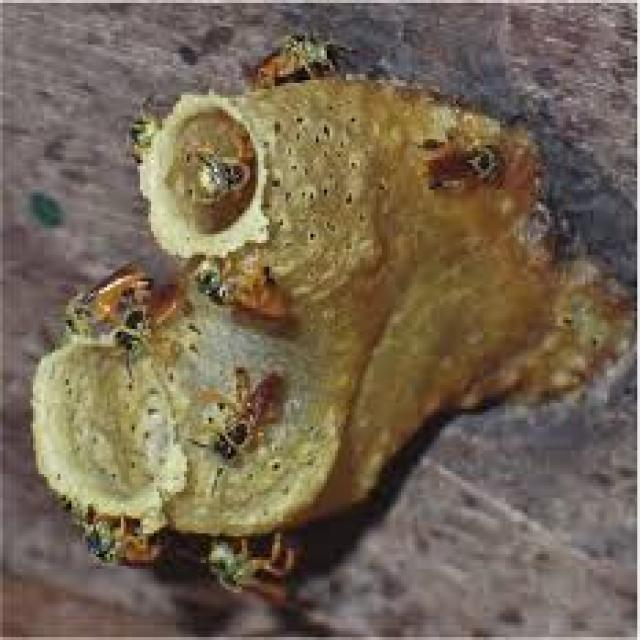Meliponula: (56, 268, 195, 354), (200, 362, 298, 477), (208, 243, 318, 344), (198, 531, 330, 614), (171, 122, 263, 203), (74, 513, 170, 580), (126, 112, 163, 173)
